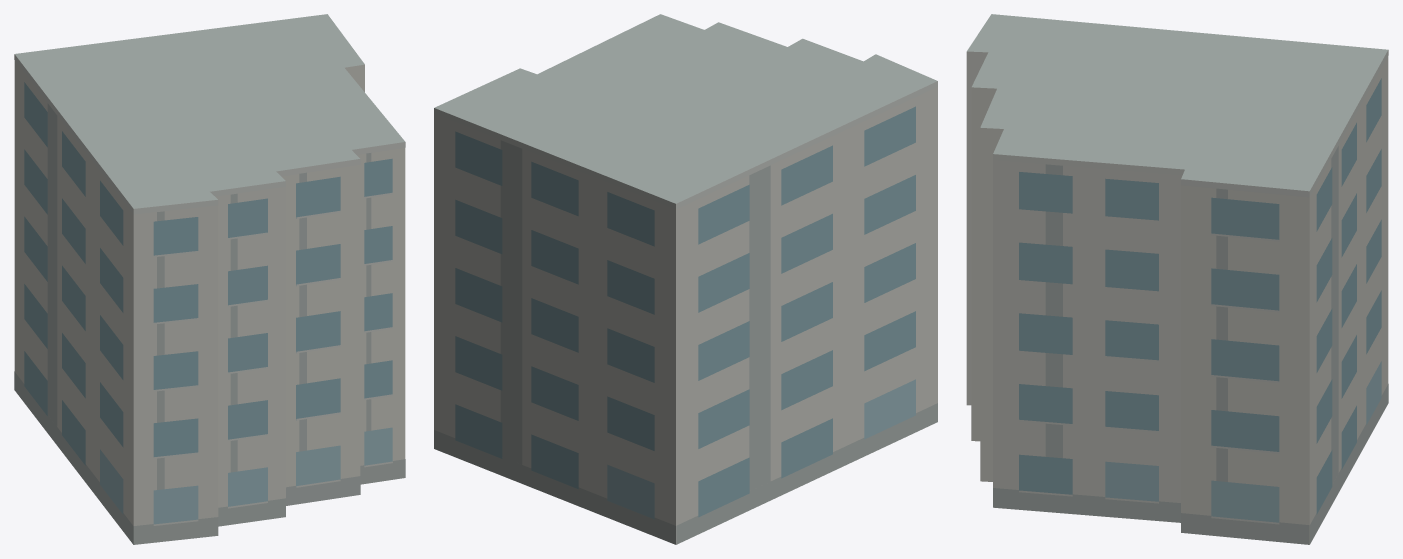
Rendered from survey-upis-32868577.glb.
The picture shows the model from 3 angles, left to right: view 1: azimuth 30°, elevation 25°; view 2: azimuth 150°, elevation 25°; view 3: azimuth 270°, elevation 25°; orthographic projection. The views are drawn at different scales.
Visible parts, largest first — view 1: survey-upis-32868577.tmp; view 2: survey-upis-32868577.tmp; view 3: survey-upis-32868577.tmp.
Boxes of the visible parts, box(x1,y1,x2,y2) form: survey-upis-32868577.tmp: box(14, 14, 405, 544); survey-upis-32868577.tmp: box(434, 14, 937, 544); survey-upis-32868577.tmp: box(966, 14, 1388, 544).
Bounding box in the file's own units: 15.22 × 14.15 × 15.31.
